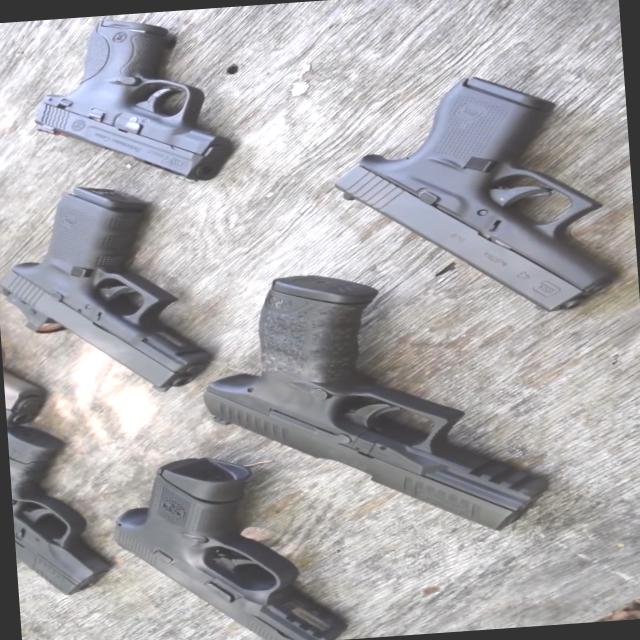handgun: (212, 264, 542, 556), (318, 58, 583, 330), (0, 148, 245, 409), (99, 430, 373, 639), (44, 7, 250, 210)
